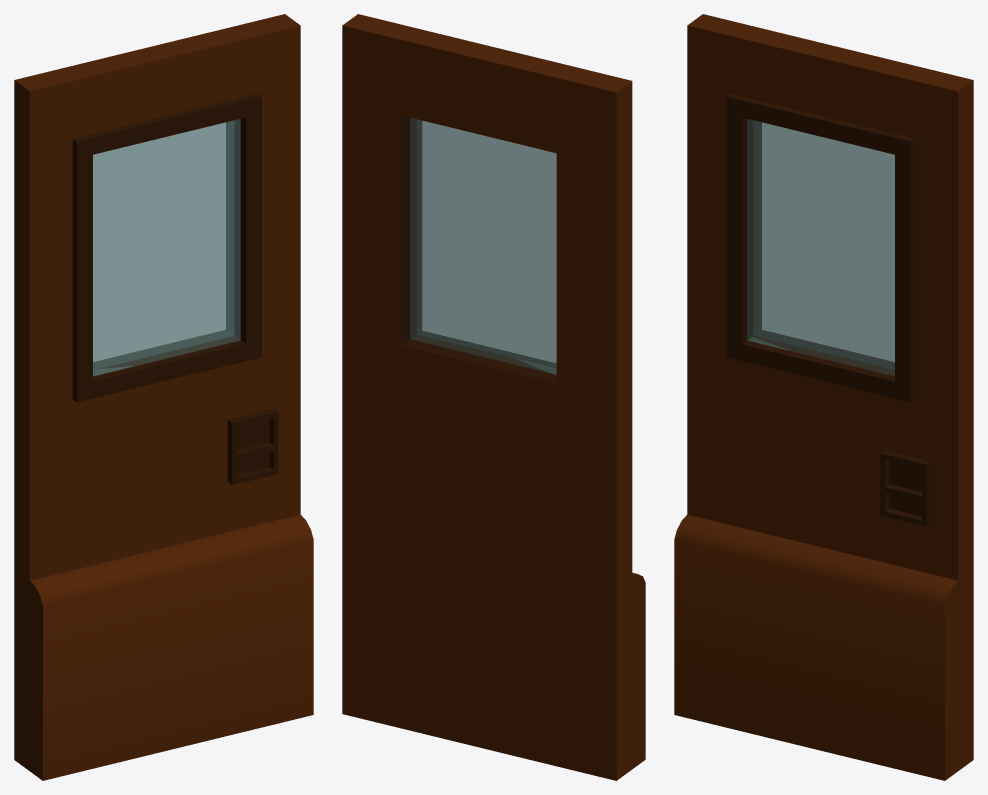
The model's file is porte.fbx.
The picture shows the model from 3 angles, left to right: view 1: azimuth 30°, elevation 25°; view 2: azimuth 150°, elevation 25°; view 3: azimuth 330°, elevation 25°; orthographic projection.
Parts seen in each view (by area): view 1: Box093; view 2: Box093; view 3: Box093.
Boxes of the visible parts, left/top/right/bottom form: Box093: left=14, top=14, right=313, bottom=780; Box093: left=342, top=14, right=645, bottom=780; Box093: left=674, top=14, right=973, bottom=780.
Size of the model in its own units: 80.52 by 193 by 14.84.
